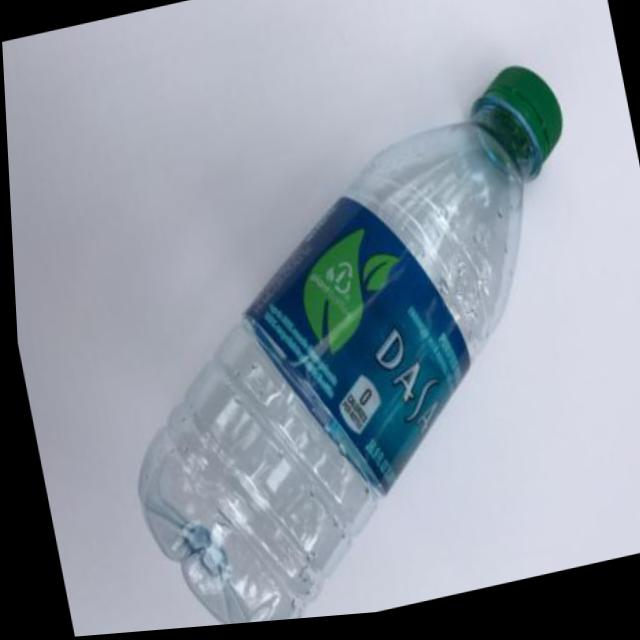plastic: (63, 31, 640, 636)
